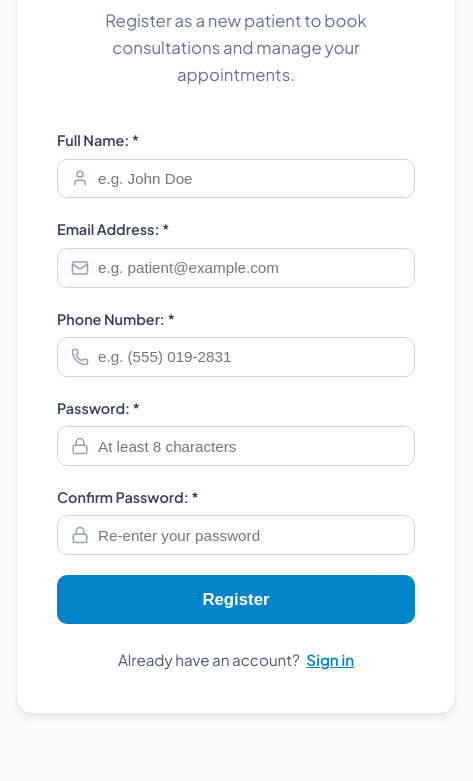
Test: Patient Registration Flow (/register) › validates empty required fields and displays inline validation errors
The width and height of the screenshot is (473, 781).
(page scrolled)
Click the button "Register" at (236, 600), box [57,575,415,624]
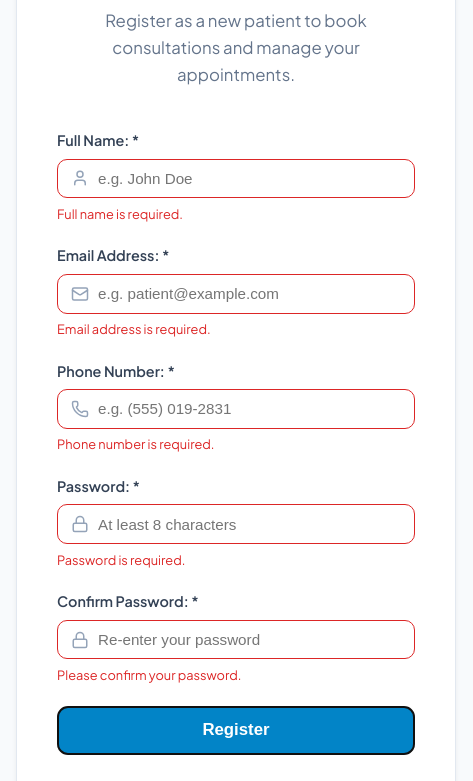
Check: the text "Full name is required." is shown, box [57,206,183,222]
Check: the text "Email address is required." is shown, box [57,321,211,337]
Check: the text "Phone number is required." is shown, box [57,436,214,452]
